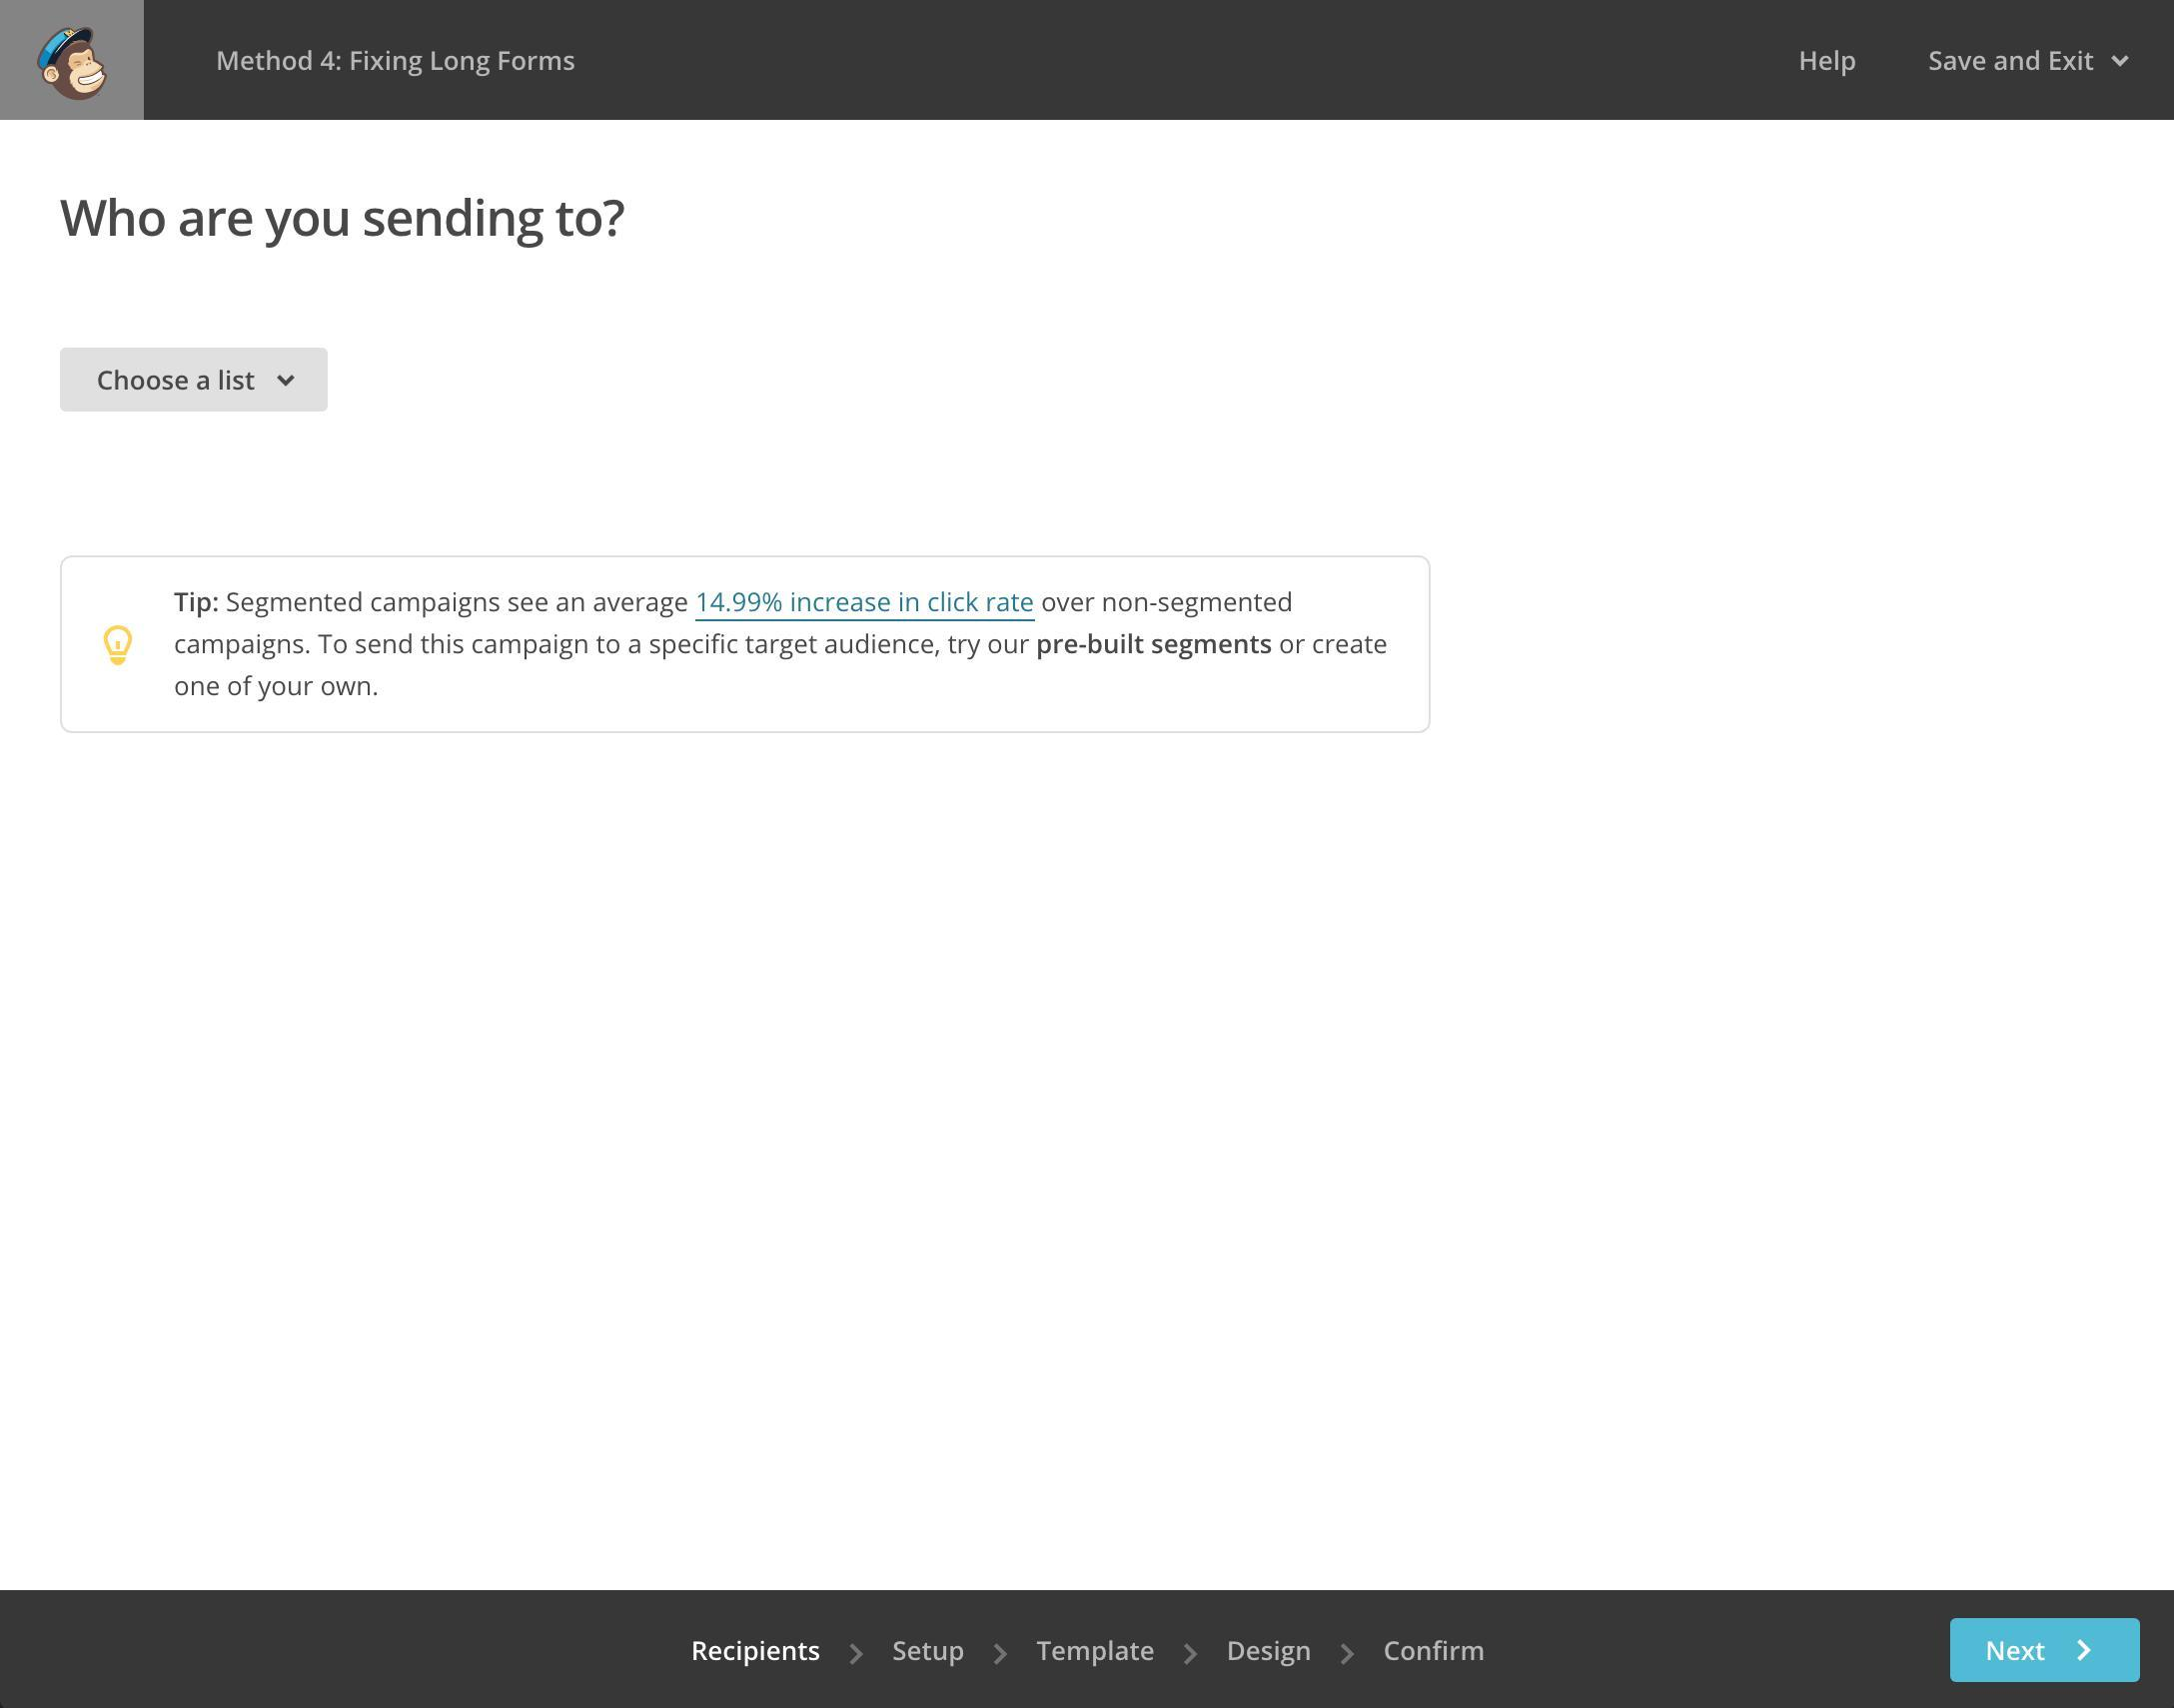button: (1952, 1618, 2142, 1687)
dropdown: (60, 342, 330, 420)
